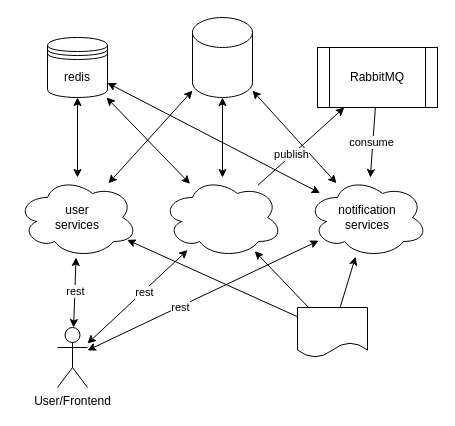
Image size: 455x426. Some labels were removed from this diagram. Here are the shapes that lost their labels. From the top down, the box of each, then its label:
(192, 16, 252, 98): mysql
(162, 176, 282, 258): department services
(296, 306, 368, 358): shared models
